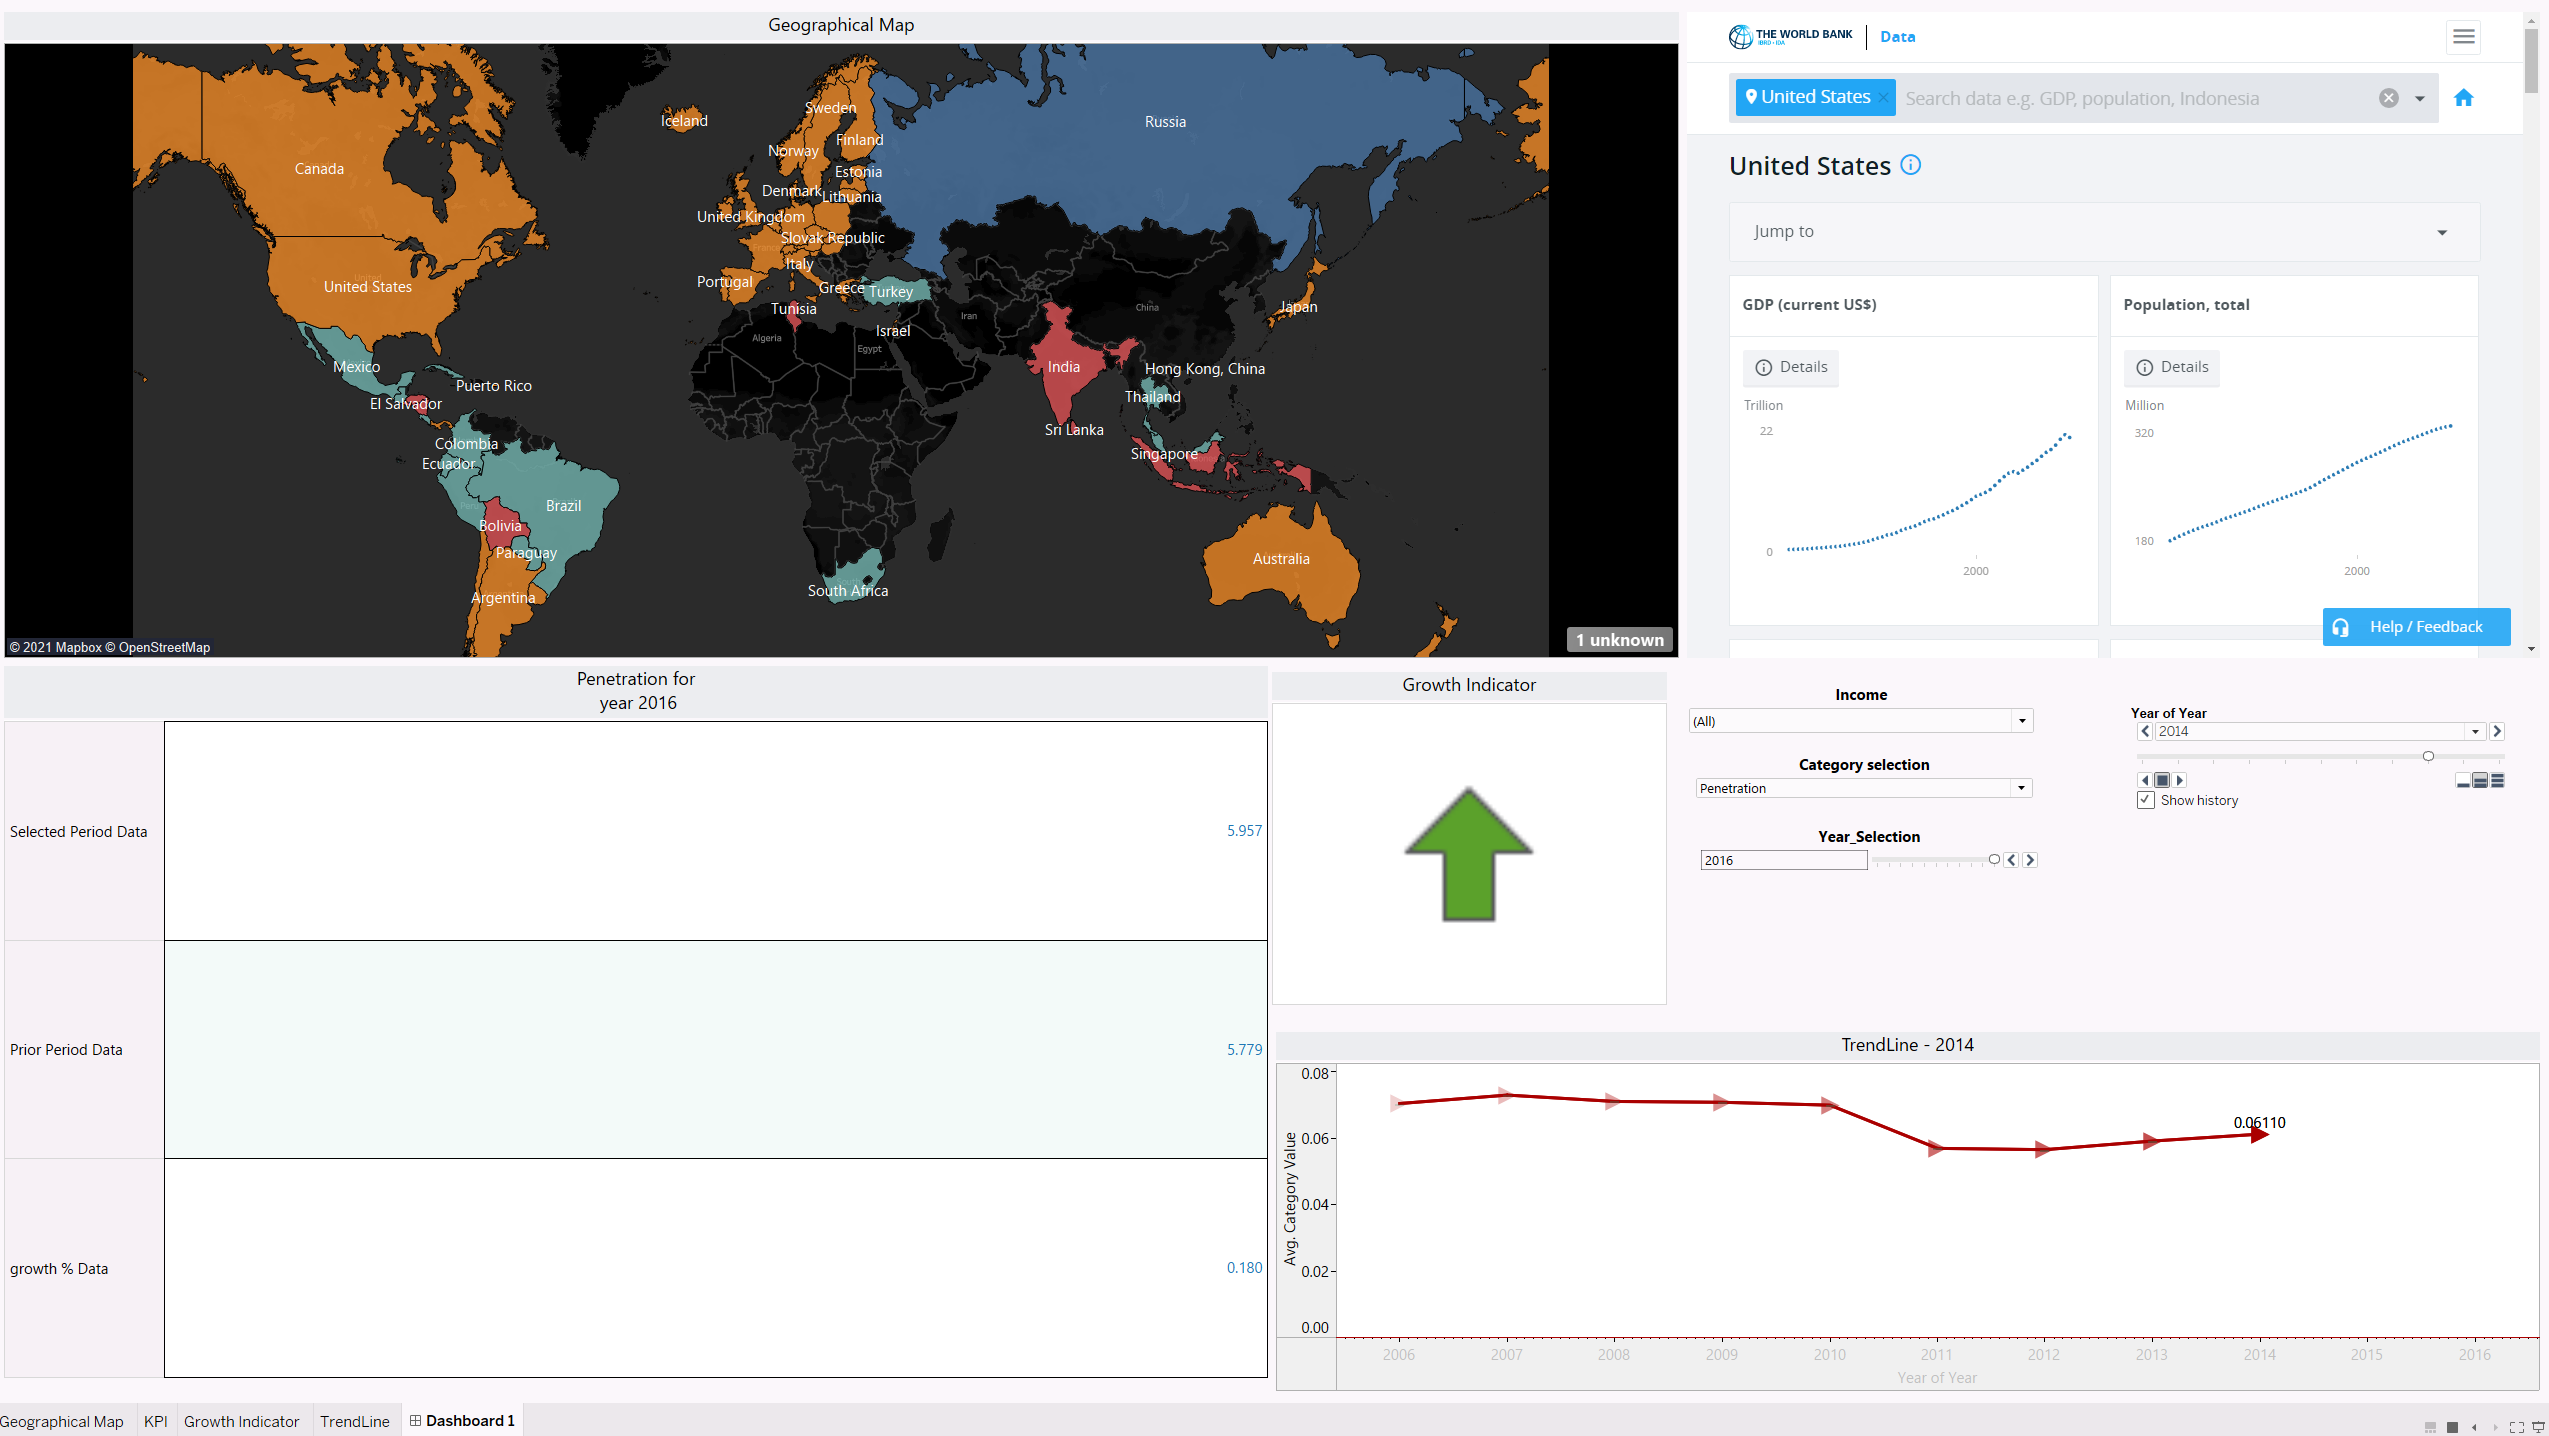

The dashboard page shown, as its layout file describes it:
{"tool":"tableau","page":{"name":"Dashboard 1","canvas":[1000,1000],"units":"permille","ordinal":0},"visuals":[{"type":"worksheet","box":[0,0,1000,1000]},{"type":"worksheet","param":"horz","box":[3.6,6.5,992.8,465.1]},{"type":"worksheet","param":"vert","box":[3.6,6.5,992.8,465.1]},{"type":"worksheet","param":"horz","box":[3.6,6.5,992.8,465.1]},{"type":"worksheet","title":"Geographical Map","mark":"Multipolygon","box":[3.6,6.5,603.5,465.1]},{"type":"worksheet","param":"https://data.worldbank.org/country/United States?view=chart","box":[607.1,6.5,389.2,465.1]},{"type":"worksheet","title":"KPI","mark":"Automatic","box":[3.6,471.7,496.4,521.8]},{"type":"worksheet","param":"vert","box":[500,471.7,496.4,260.8]},{"type":"worksheet","title":"Growth Indicator","mark":"Shape","box":[500,479.1,154.2,237.5]},{"type":"worksheet","title":"Geographical Map","mark":"Multipolygon","param":"[federated.0htdpui0mcrjsh1emhm0p072xjz6].[none:income:nk]","box":[661.8,487.3,137,43.4]},{"type":"worksheet","title":"TrendLine","mark":"GanttBar","rows":["Calculation_1890948895949352974","Calculation_1890948895949352974"],"cols":["Year"],"box":[835.4,502.9,148.3,136.8]},{"type":"worksheet","param":"[Parameters].[Parameter 2]","box":[664.6,537.3,133.8,39.3]},{"type":"worksheet","param":"[Parameters].[Parameter 1]","box":[666.4,588.9,133.8,45.1]},{"type":"worksheet","param":"vert","box":[500,732.5,496.4,260.9]},{"type":"worksheet","title":"TrendLine","mark":"GanttBar","rows":["Calculation_1890948895949352974","Calculation_1890948895949352974"],"cols":["Year"],"box":[500,732.5,496.4,260.9]}]}

Visuals, with their boxes on the dashboard's canvas, which has no fixed pixel size, in thousandths of its width and height (x1, y1, x2, y2). These are canvas units, not pixel positions in the 2549x1436 screenshot, which may show the page scaled, cropped or inside an application window:
worksheet: 0, 0, 1000, 1000
worksheet: 4, 6, 996, 472
worksheet: 4, 6, 996, 472
worksheet: 4, 6, 996, 472
"Geographical Map" worksheet (Multipolygon marks): 4, 6, 607, 472
worksheet: 607, 6, 996, 472
"KPI" worksheet: 4, 472, 500, 994
worksheet: 500, 472, 996, 732
"Growth Indicator" worksheet (Shape marks): 500, 479, 654, 717
"Geographical Map" worksheet (Multipolygon marks): 662, 487, 799, 531
"TrendLine" worksheet (GanttBar marks): 835, 503, 984, 640
worksheet: 665, 537, 798, 577
worksheet: 666, 589, 800, 634
worksheet: 500, 732, 996, 993
"TrendLine" worksheet (GanttBar marks): 500, 732, 996, 993
